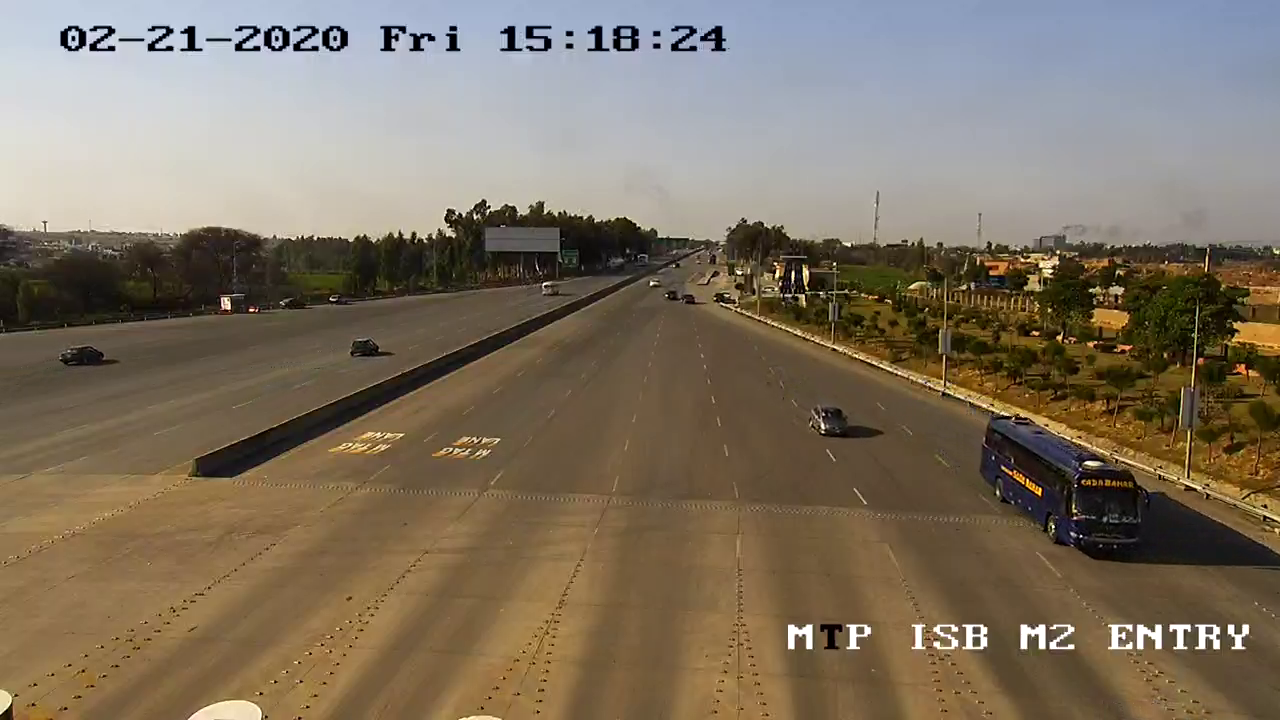f4: (969, 407, 1161, 567)
